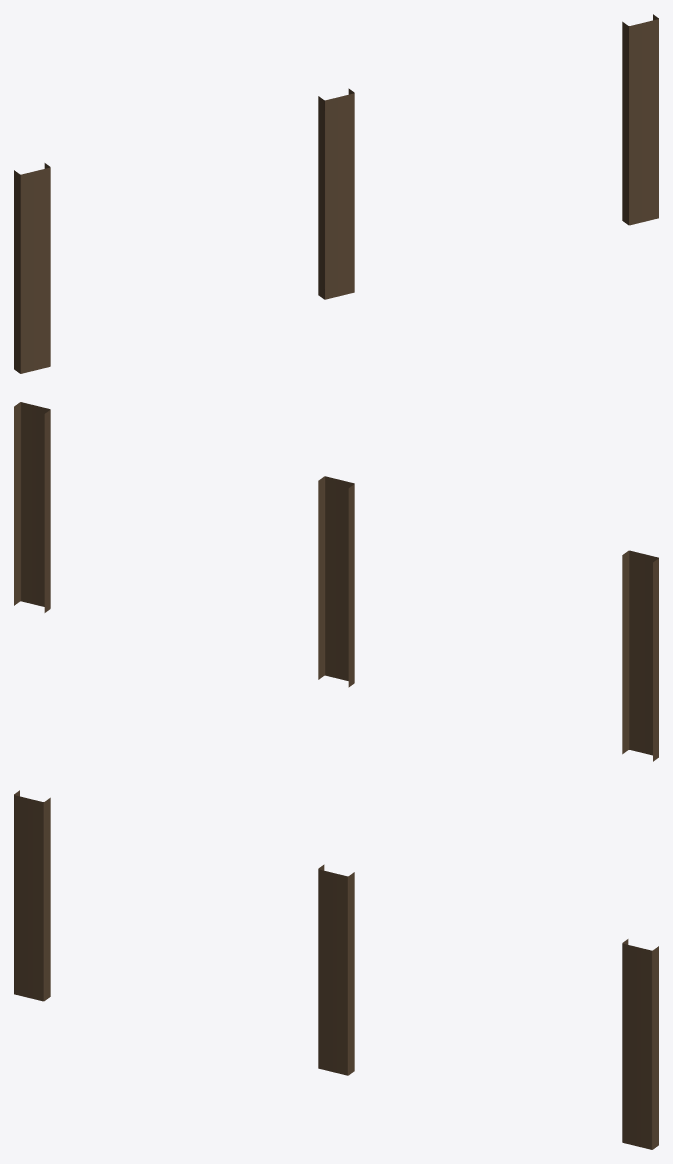
Rendered from ArcheryField_Pillar.fbx.
3 views of the same model, one above another, from view 1: azimuth 30°, elevation 25°; view 2: azimuth 150°, elevation 25°; view 3: azimuth 330°, elevation 25° (orthographic).
Visible parts, largest first — view 1: ArcheryField_Pillar; view 2: ArcheryField_Pillar; view 3: ArcheryField_Pillar.
Part boxes in pixels (x1=…): ArcheryField_Pillar: x1=14, y1=14, x2=658, y2=373; ArcheryField_Pillar: x1=14, y1=402, x2=658, y2=761; ArcheryField_Pillar: x1=14, y1=790, x2=658, y2=1149.
Bounding box in the file's own units: 1210 × 361 × 21.35.
